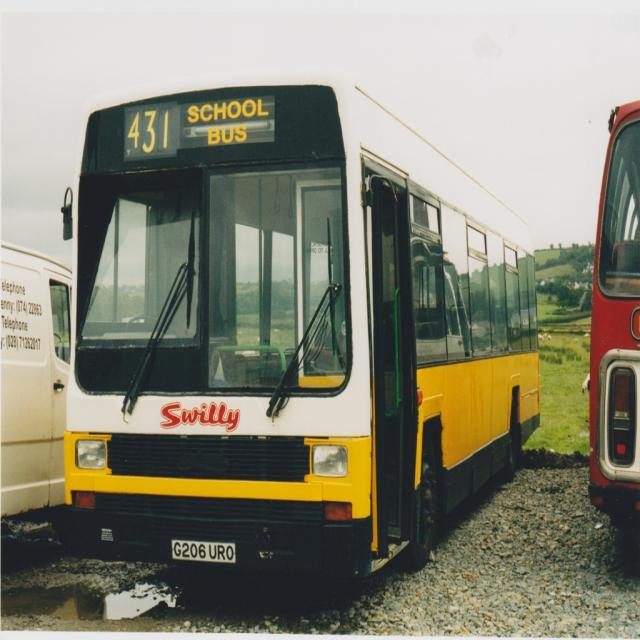Buses: (61, 75, 541, 590)
